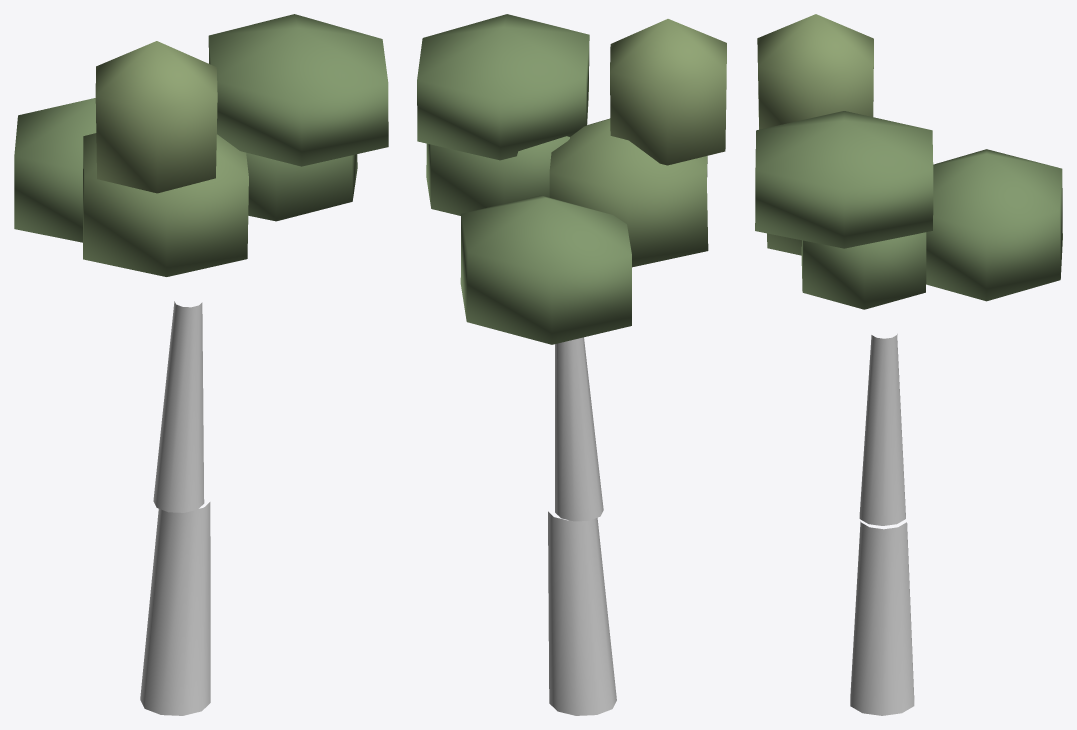
Rendered from oak_v2_far.gltf.
The picture shows the model from 3 angles, left to right: view 1: azimuth 30°, elevation 25°; view 2: azimuth 150°, elevation 25°; view 3: azimuth 270°, elevation 25°; orthographic projection. The views are drawn at different scales.
Visible parts, largest first — view 1: foliage, bark; view 2: foliage, bark; view 3: foliage, bark.
Part boxes in pixels (x1=…): foliage: x1=14, y1=14, x2=388, y2=276; bark: x1=140, y1=301, x2=210, y2=715; foliage: x1=417, y1=14, x2=726, y2=344; bark: x1=548, y1=337, x2=616, y2=715; foliage: x1=755, y1=14, x2=1062, y2=309; bark: x1=850, y1=334, x2=914, y2=715.
Size of the model in its own units: 2.56 by 5.66 by 2.38.
